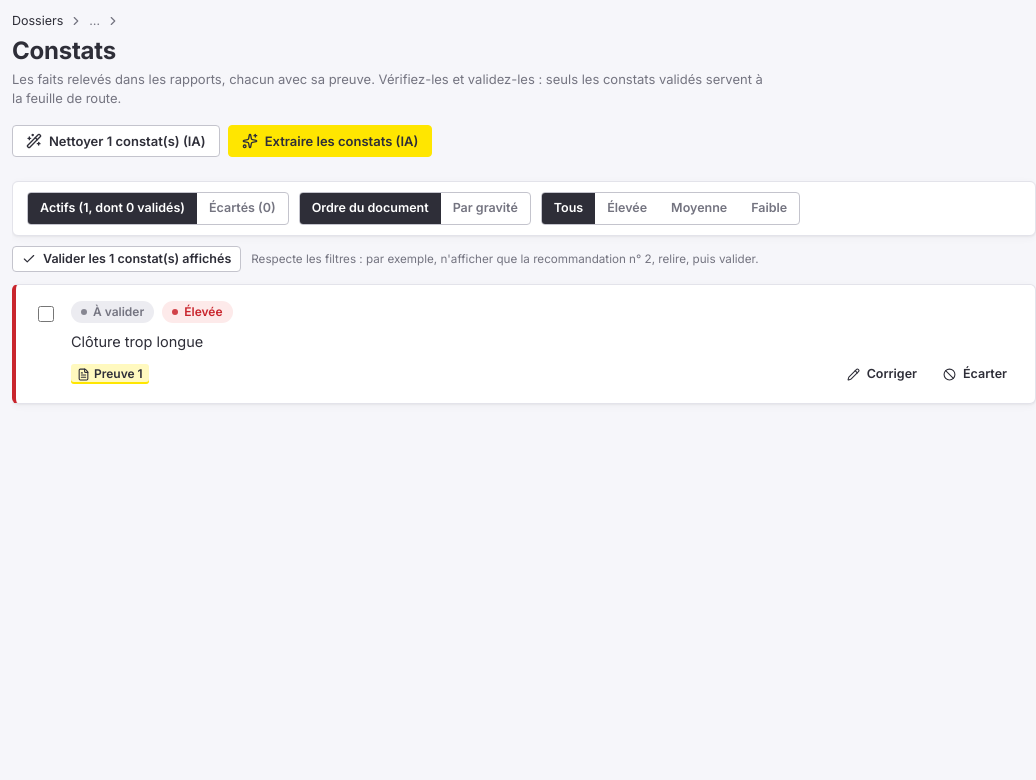
Test: page constats › une source cliquable ouvre le panneau latéral
Click the button "Preuve 1".
click(110, 374)  # box x1=71 y1=364 x2=149 y2=384
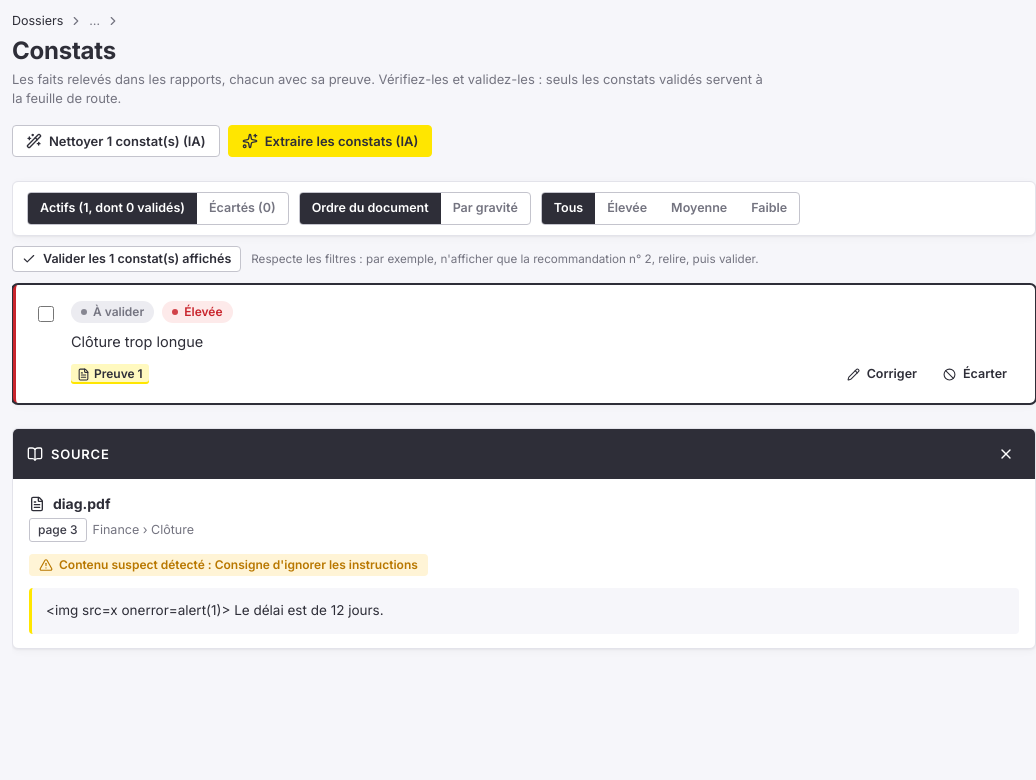
Now the text "diag.pdf" is shown, box x1=29 y1=495 x2=110 y2=512
